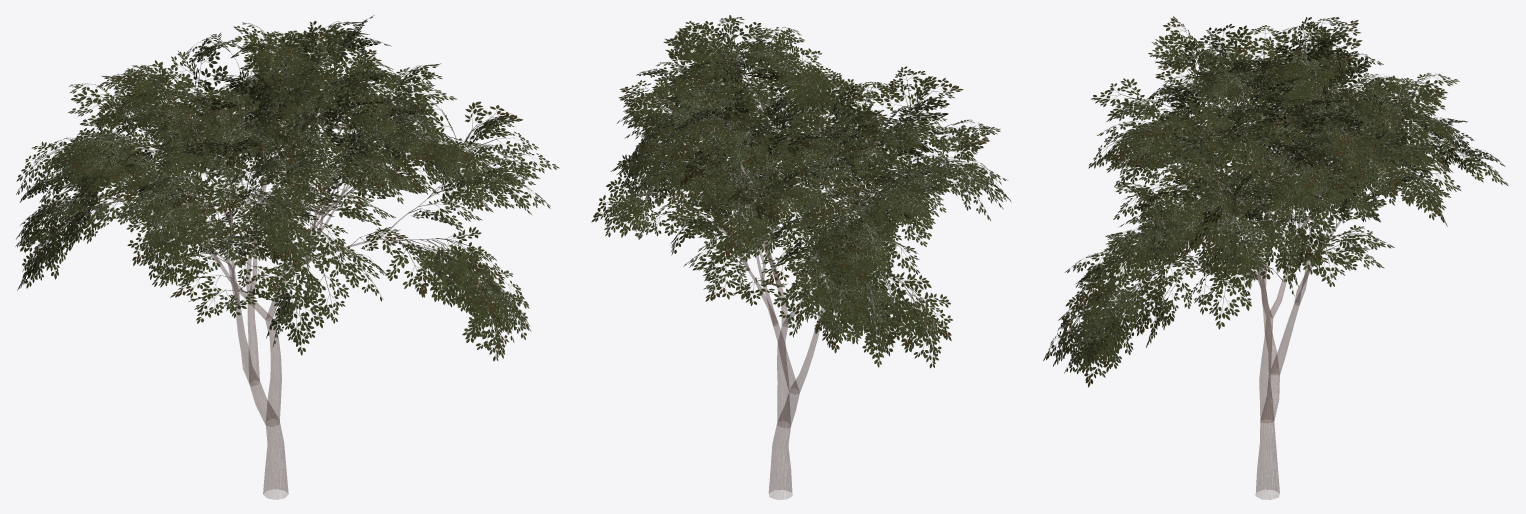
Rendered from tree_new4.glb.
3 views of the same model, side by side, from view 1: azimuth 30°, elevation 25°; view 2: azimuth 150°, elevation 25°; view 3: azimuth 270°, elevation 25° (orthographic). The views are drawn at different scales.
Visible parts, largest first — view 1: Tree; view 2: Tree; view 3: Tree.
Boxes of the visible parts, bbox=[...] form: Tree: bbox=[15, 15, 559, 499]; Tree: bbox=[591, 15, 1011, 499]; Tree: bbox=[1043, 16, 1508, 499].
Bounding box in the file's own units: 3.63 × 3.82 × 3.55.
Materials: 2 (2 with a texture image).
